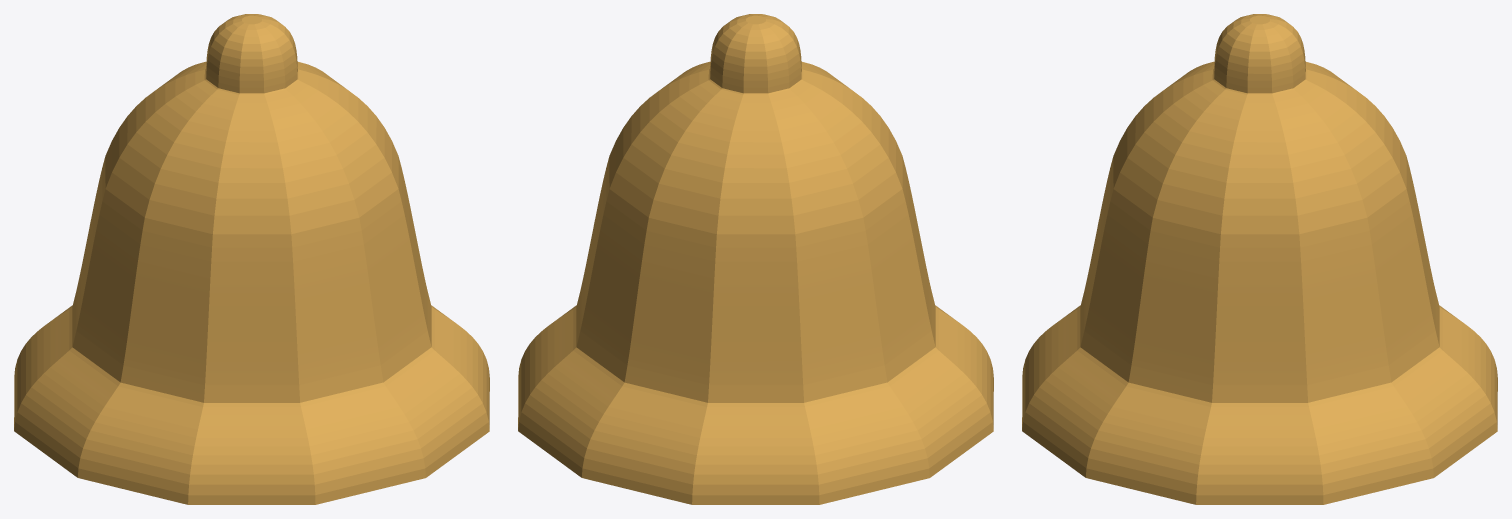
The model's file is S.Bell.fbx.
The picture shows the model from 3 angles, left to right: view 1: azimuth 30°, elevation 25°; view 2: azimuth 150°, elevation 25°; view 3: azimuth 270°, elevation 25°; orthographic projection.
Parts seen in each view (by area): view 1: S. Bell; view 2: S. Bell; view 3: S. Bell.
Boxes of the visible parts, <box> form: S. Bell: <box>14,14,489,504</box>; S. Bell: <box>518,14,993,504</box>; S. Bell: <box>1022,14,1497,504</box>.
Bounding box in the file's own units: 410 × 367 × 410.
